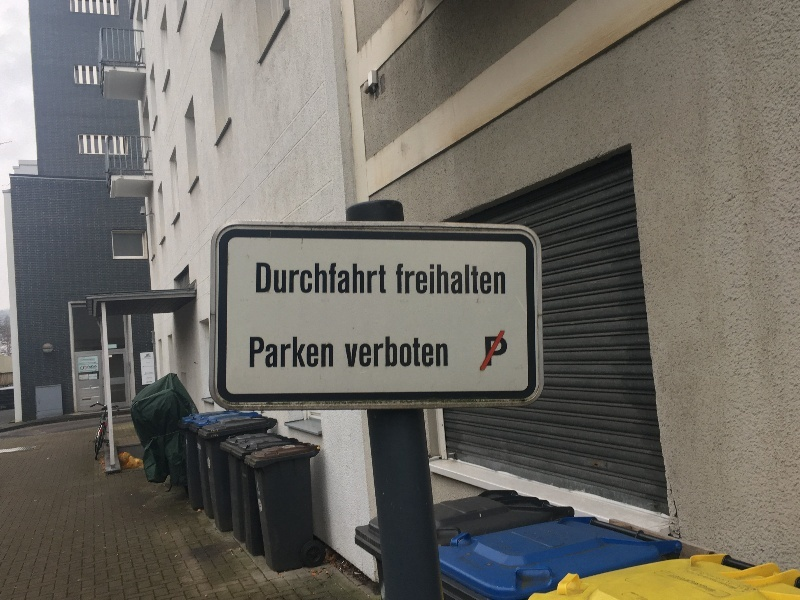text: (433, 335, 449, 369), (353, 335, 368, 369), (369, 335, 384, 369), (385, 335, 400, 369), (401, 335, 416, 369), (417, 335, 432, 369), (257, 262, 272, 295), (273, 262, 288, 295), (289, 262, 304, 295), (305, 262, 320, 295), (321, 262, 336, 295), (337, 262, 352, 295), (353, 262, 368, 295), (369, 262, 384, 295), (257, 336, 272, 369), (273, 336, 288, 369), (289, 336, 304, 369), (305, 336, 320, 369), (401, 263, 416, 296), (417, 263, 432, 296), (433, 263, 448, 296), (449, 263, 464, 296), (465, 263, 480, 296), (481, 263, 496, 296), (321, 336, 335, 369), (484, 335, 496, 368), (497, 335, 509, 368), (497, 263, 506, 296), (344, 335, 352, 369), (250, 336, 256, 369), (395, 263, 400, 296), (385, 262, 387, 295), (81, 358, 96, 362), (146, 377, 160, 380), (145, 372, 154, 376), (87, 365, 96, 369), (146, 362, 160, 364), (146, 381, 160, 383), (145, 357, 154, 360), (145, 366, 154, 368), (89, 376, 96, 378), (142, 357, 144, 360), (142, 366, 144, 368), (143, 372, 144, 376)
